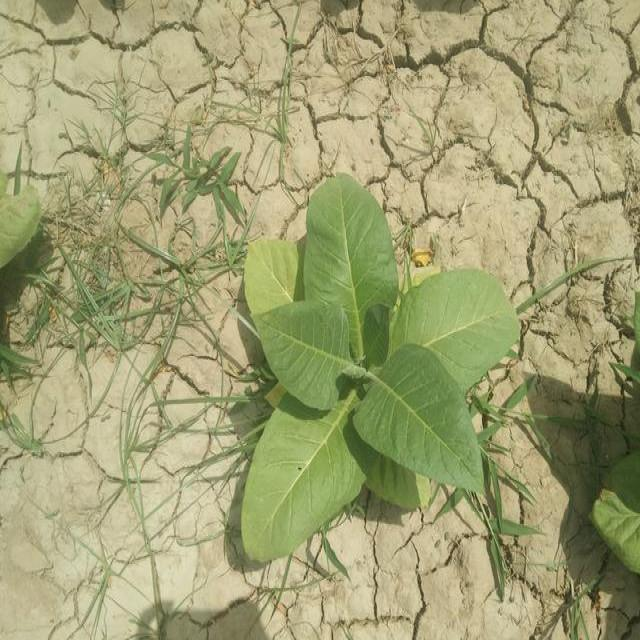crop: (244, 174, 523, 567)
